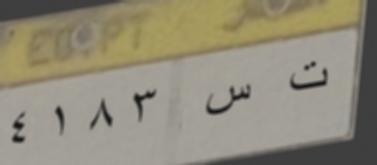1: (44, 100, 74, 142)
3: (128, 84, 161, 129)
4: (4, 108, 32, 150)
8: (84, 93, 117, 138)
seen: (198, 78, 253, 128)
taa: (284, 56, 337, 94)
